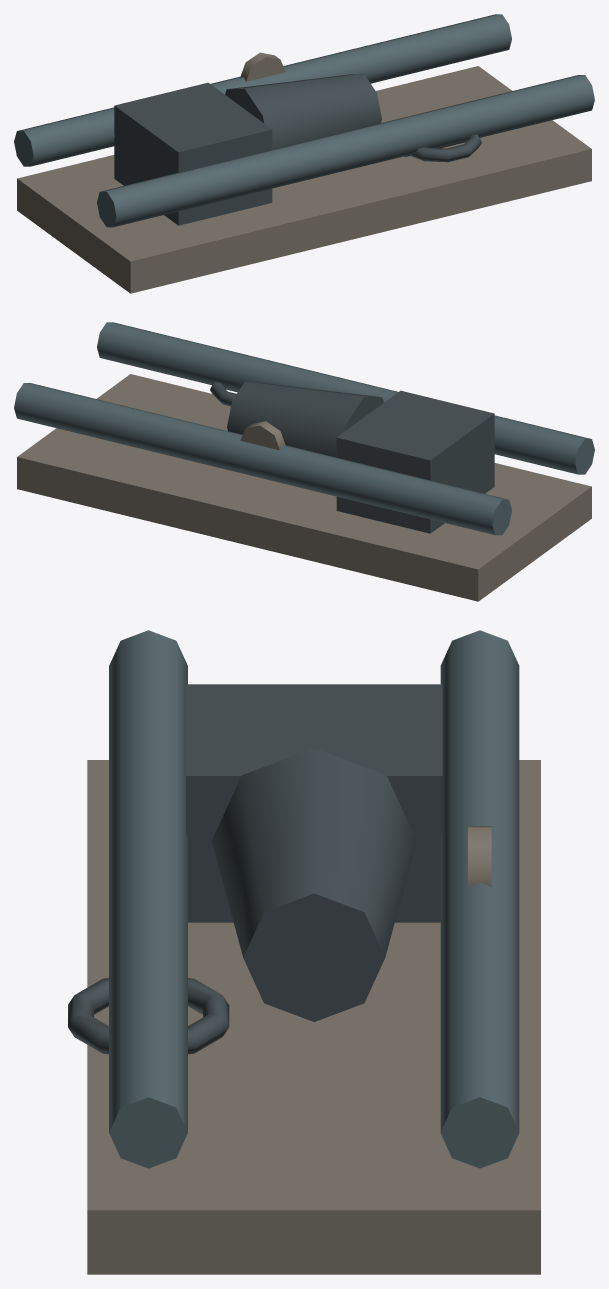
File: IrrigationFertilizerInjector.glb
The picture shows the model from 3 angles, top to bottom: view 1: azimuth 30°, elevation 25°; view 2: azimuth 150°, elevation 25°; view 3: azimuth 270°, elevation 25°; orthographic projection. The views are drawn at different scales.
Visible parts, largest first — view 1: hand-pump-static-injector-base, hand-pump-static-injector-pipe, hand-pump-static-injector-iron; view 2: hand-pump-static-injector-base, hand-pump-static-injector-pipe, hand-pump-static-injector-iron; view 3: hand-pump-static-injector-base, hand-pump-static-injector-pipe, hand-pump-static-injector-iron.
Part boxes in pixels (left/top/right/bottom): hand-pump-static-injector-base: left=17, top=52, right=591, bottom=293; hand-pump-static-injector-pipe: left=14, top=14, right=594, bottom=227; hand-pump-static-injector-iron: left=114, top=74, right=481, bottom=225; hand-pump-static-injector-base: left=17, top=374, right=591, bottom=601; hand-pump-static-injector-pipe: left=14, top=322, right=594, bottom=535; hand-pump-static-injector-iron: left=210, top=381, right=494, bottom=533; hand-pump-static-injector-base: left=87, top=760, right=540, bottom=1274; hand-pump-static-injector-pipe: left=109, top=630, right=519, bottom=1168; hand-pump-static-injector-iron: left=68, top=684, right=442, bottom=1054.
Bounding box in the file's own units: 2.8 × 0.68 × 1.2.
